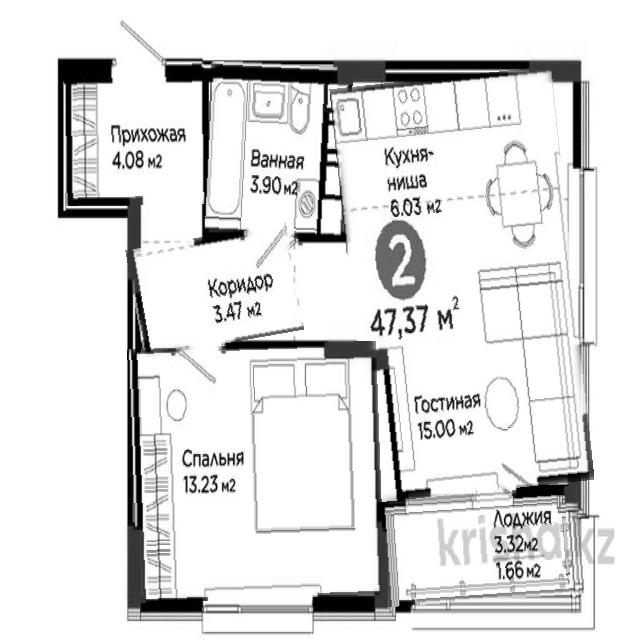balcony: (380, 490, 583, 604)
bathroom: (205, 62, 351, 239)
hallway: (129, 228, 300, 350), (64, 64, 205, 205)
living_room: (129, 343, 382, 601)
studio: (340, 72, 583, 498)
